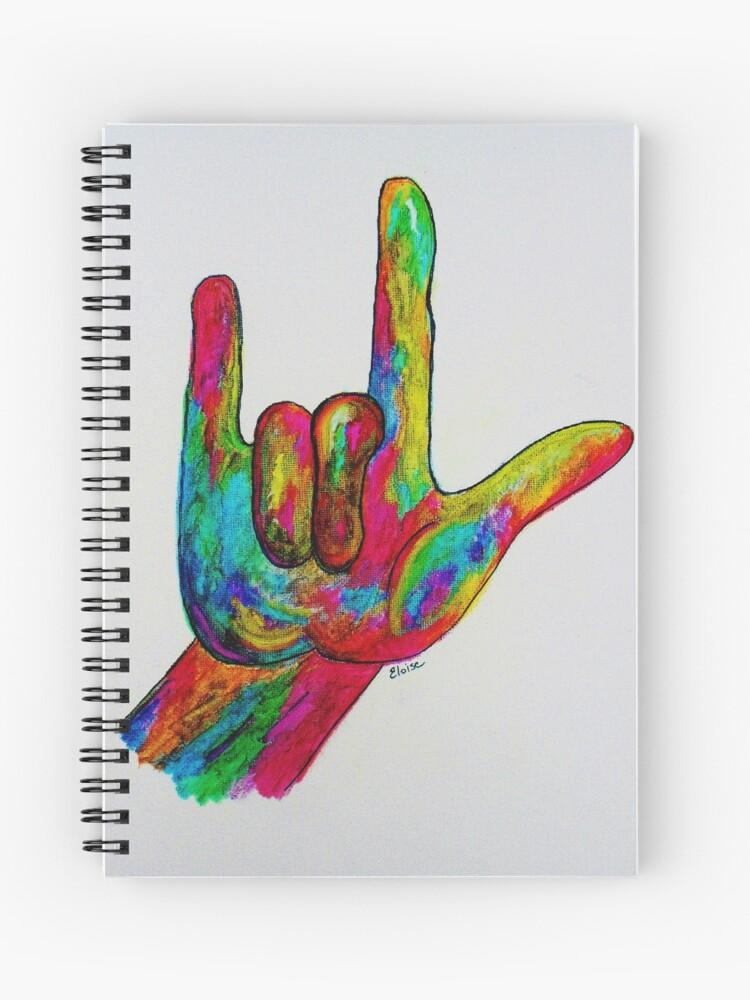Love_you: (134, 168, 638, 824)
